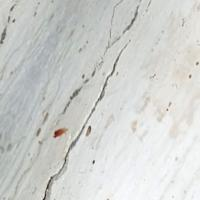crack: (31, 12, 137, 199)
